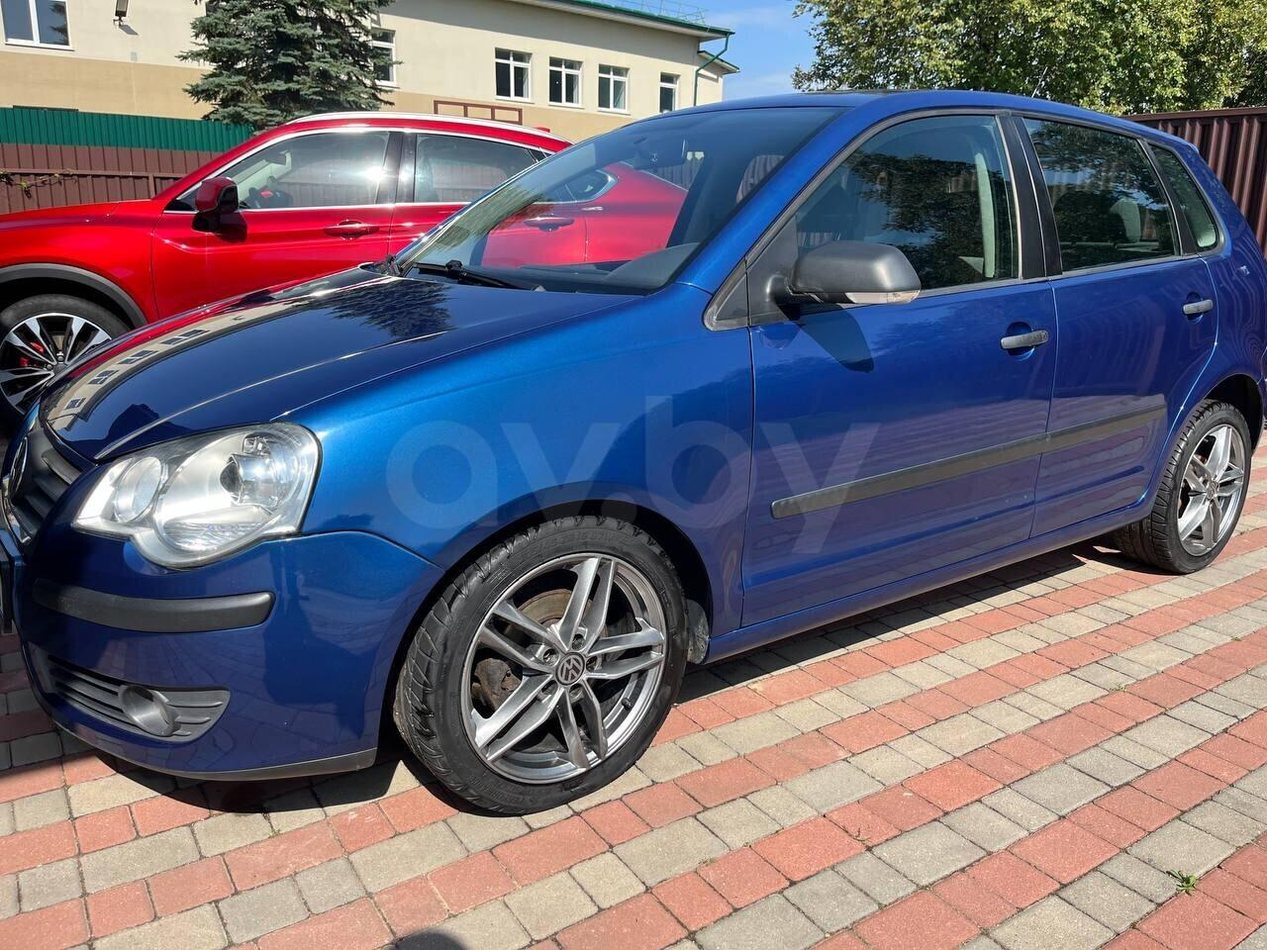Polo_2005-2009: (0, 76, 1267, 838)
